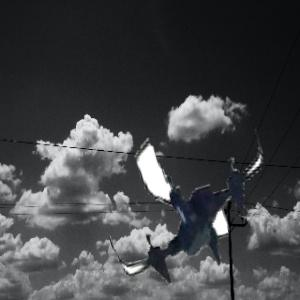drone: (103, 122, 278, 297)
